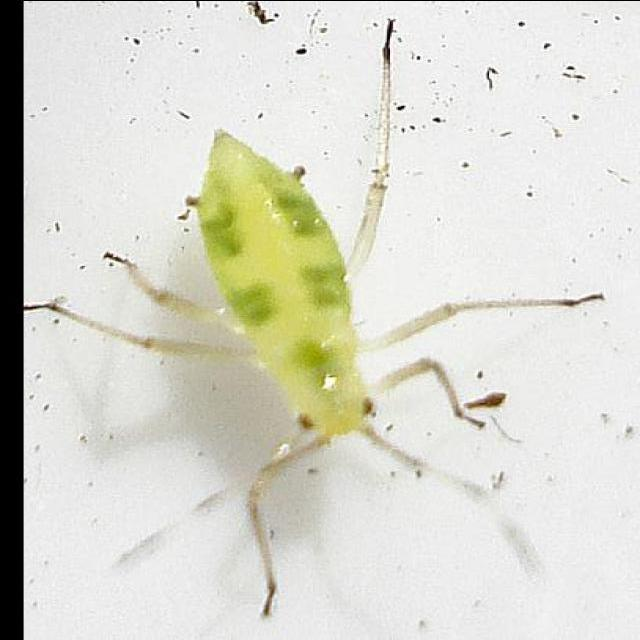aphid: (55, 28, 572, 620)
